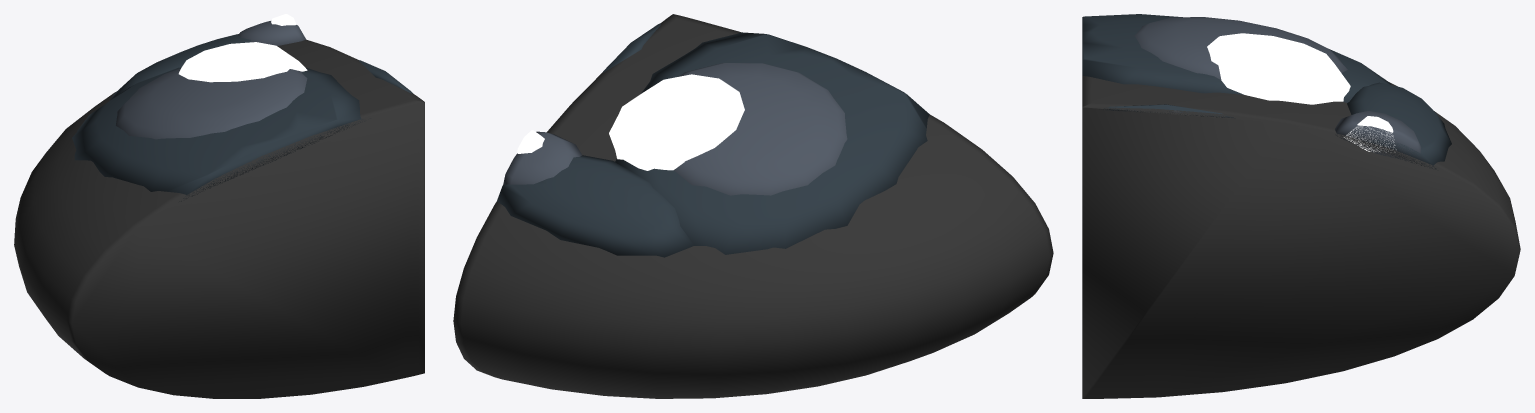
File: newshu-91.glb
The picture shows the model from 3 angles, left to right: view 1: azimuth 30°, elevation 25°; view 2: azimuth 150°, elevation 25°; view 3: azimuth 270°, elevation 25°; orthographic projection. The views are drawn at different scales.
Visible parts, largest first — view 1: newshu-91; view 2: newshu-91; view 3: newshu-91.
Part boxes in pixels (x1,y1,x2,y2): newshu-91: (14, 14, 424, 398); newshu-91: (453, 14, 1053, 398); newshu-91: (1082, 14, 1520, 398).
Size of the model in its own units: 1.96 by 1.5 by 1.96.
